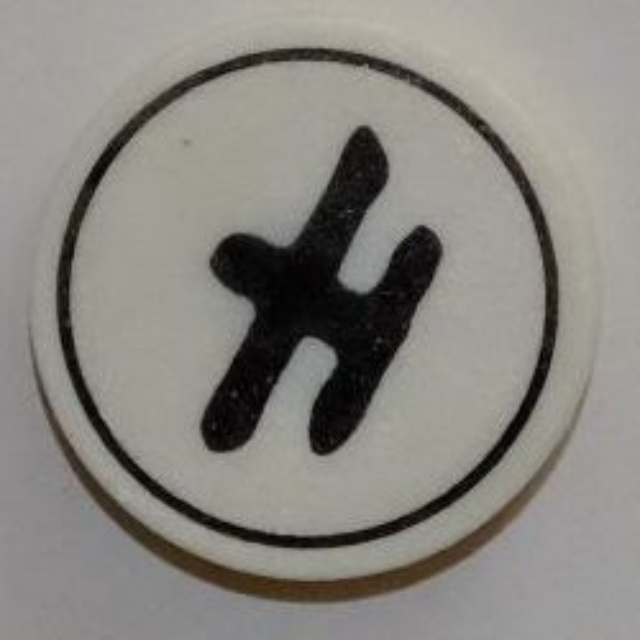black_si: (24, 15, 603, 589)
